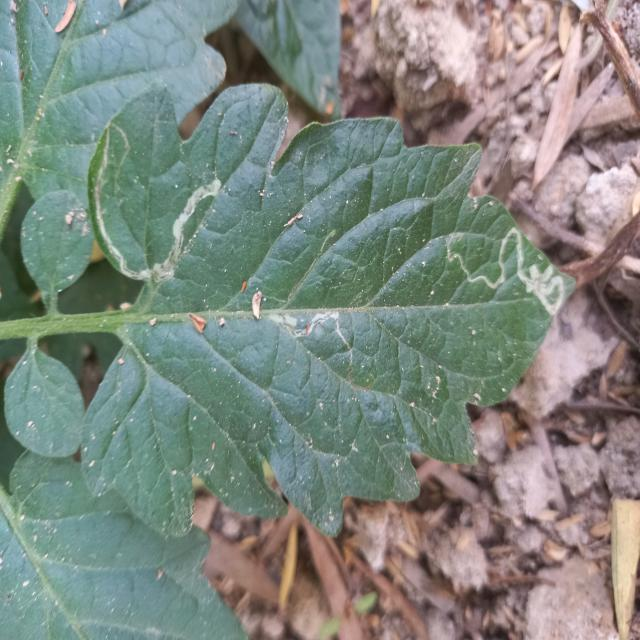Tuta absoluta: (55, 122, 227, 297), (436, 206, 582, 317), (268, 298, 358, 349)
